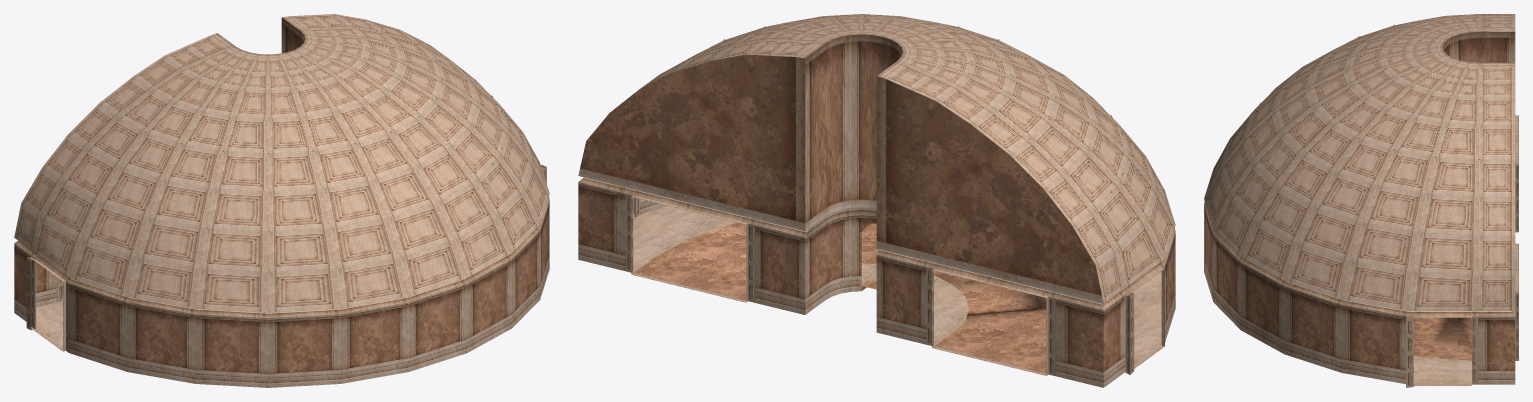
Rendered from thm_nboo_thed_emp_retreat_r3_mainhall_mesh_r3.fbx.
3 renders of one model, left to right at view 1: azimuth 30°, elevation 25°; view 2: azimuth 150°, elevation 25°; view 3: azimuth 270°, elevation 25°, orthographic. The views are drawn at different scales.
Parts seen in each view (by area): view 1: mesh_node; view 2: mesh_node; view 3: mesh_node.
Boxes of the visible parts, x1,y1,x2,y2 form: mesh_node: (14,14,549,387); mesh_node: (578,14,1175,387); mesh_node: (1204,14,1518,387).
Bounding box in the file's own units: 37.58 × 17.2 × 21.75.
